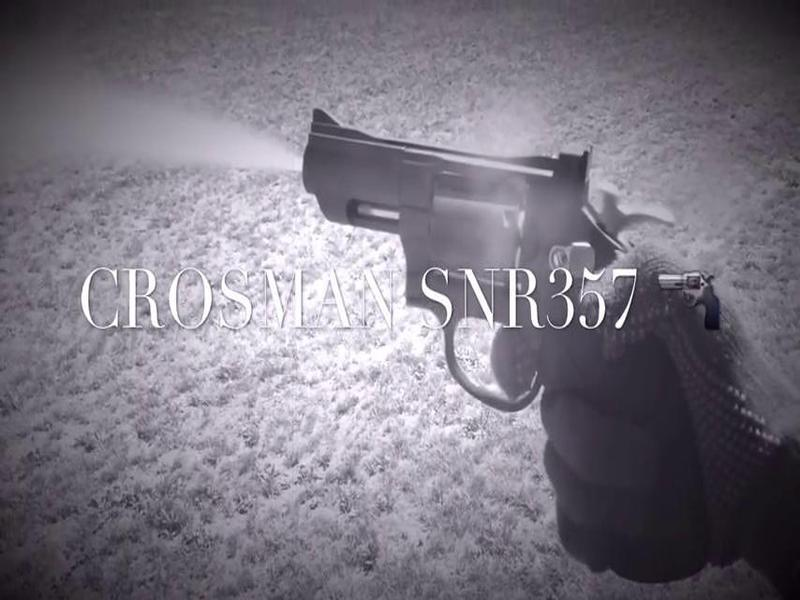Revolver: (276, 96, 684, 429)
